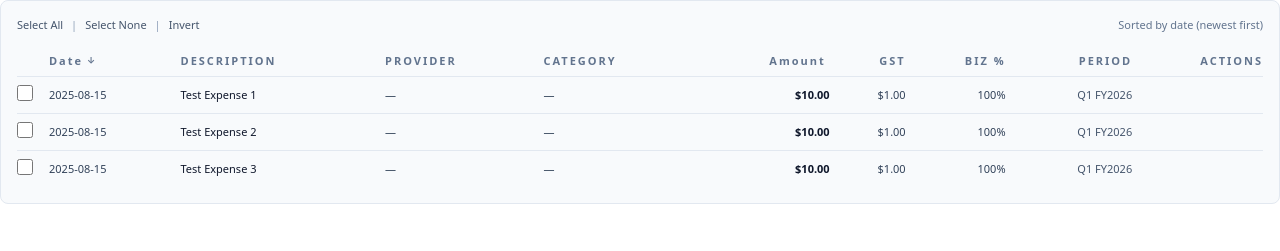
Test case: ExpensesTable › Bulk Operations › inverts selection when "Invert" is clicked
The width and height of the screenshot is (1280, 251).
Click the checkbox named "select expense" at point(25, 93), box [17, 85, 33, 101]
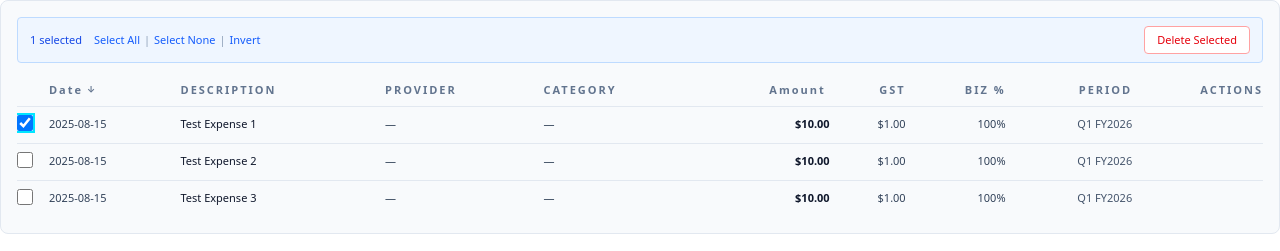
Click the checkbox named "select expense" at point(25, 160), box [17, 152, 33, 168]
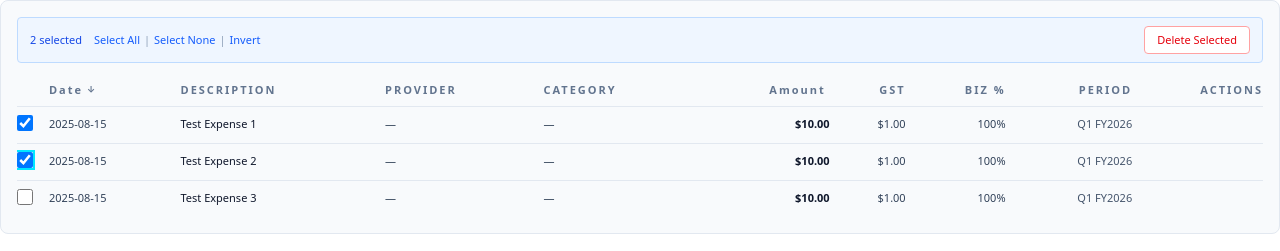
Click the button "Invert" at point(245, 40), box [230, 32, 260, 48]
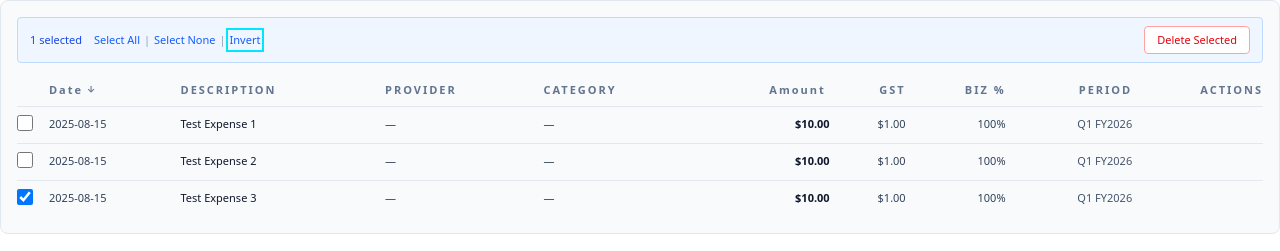
Expected: the checkbox named "select expense" is not checked, [17, 115, 33, 131]
Expected: the checkbox named "select expense" is checked, [17, 189, 33, 205]
